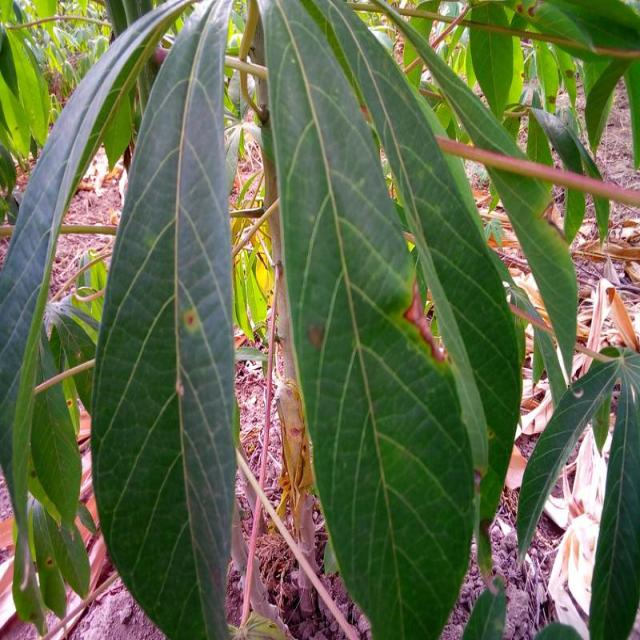cassava leaf: (255, 0, 479, 639), (89, 0, 239, 638)
